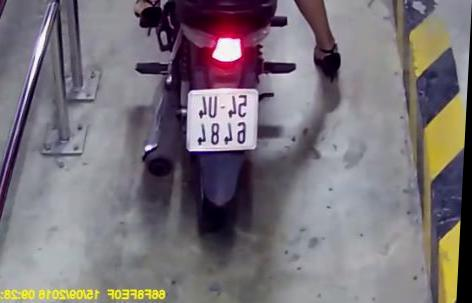License_Plate: (179, 85, 267, 155)
